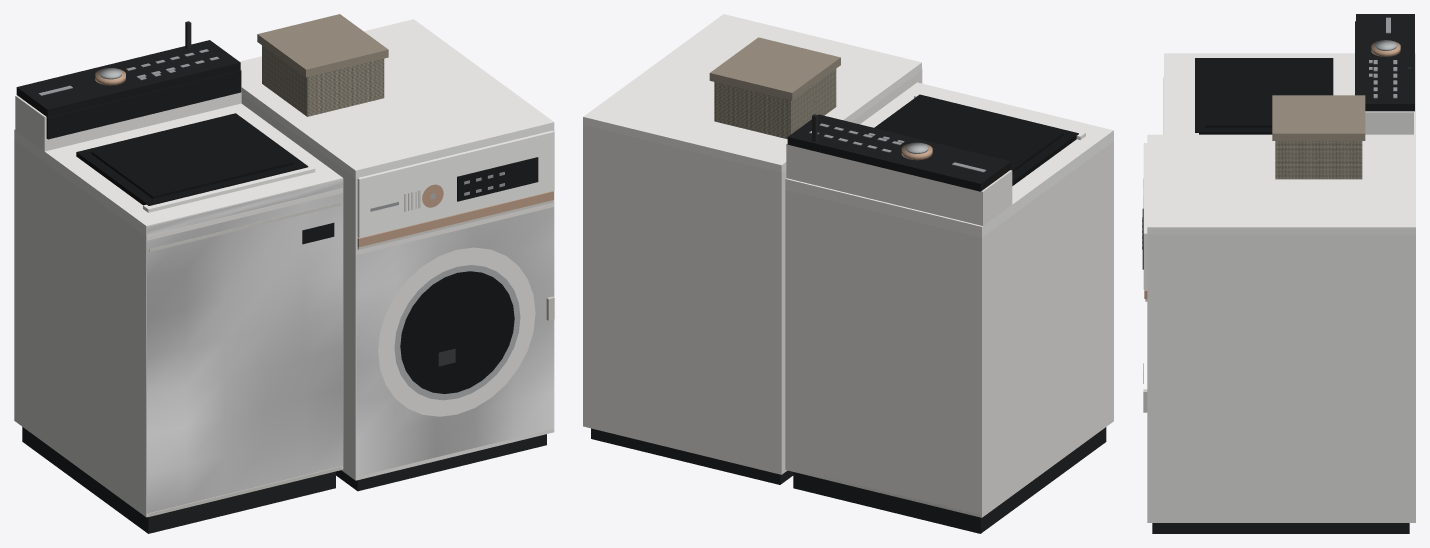
The model's file is laundry_washer_dryer.glb.
The picture shows the model from 3 angles, left to right: view 1: azimuth 30°, elevation 25°; view 2: azimuth 150°, elevation 25°; view 3: azimuth 270°, elevation 25°; orthographic projection. The views are drawn at different scales.
Visible parts, largest first — view 1: root; view 2: root; view 3: root.
Boxes of the visible parts, x1=… form: root: x1=14, y1=14, x2=554, y2=533; root: x1=583, y1=14, x2=1113, y2=533; root: x1=1142, y1=14, x2=1415, y2=533.
Bounding box in the file's own units: 1.3 × 1.18 × 0.808.
15 materials, 1 textured.
